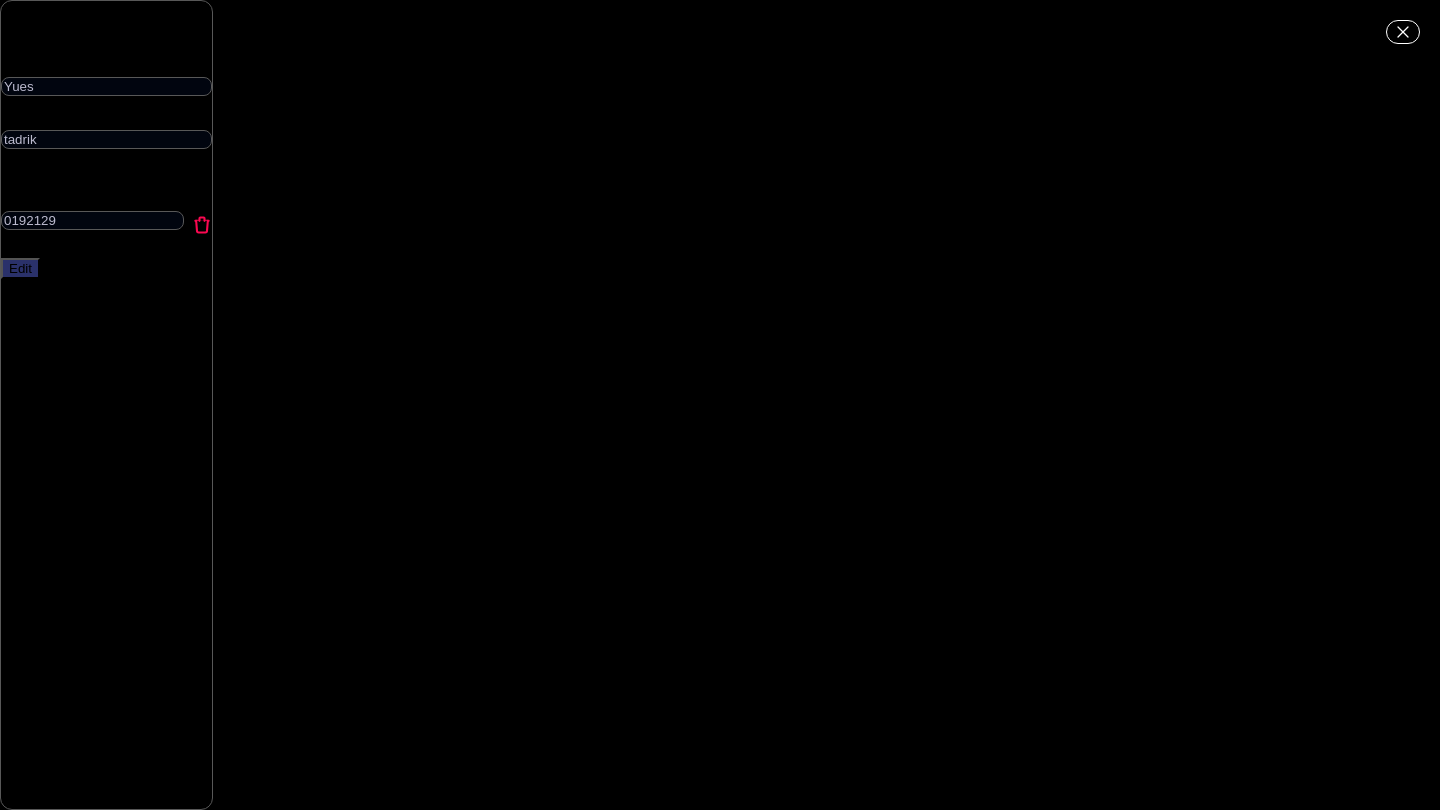
Test: Edit contact and its functionality › empty first name, fill the remain field, should not be submitted
Clear the field labelled "First Name" at (106, 86), box [1,77,212,96]
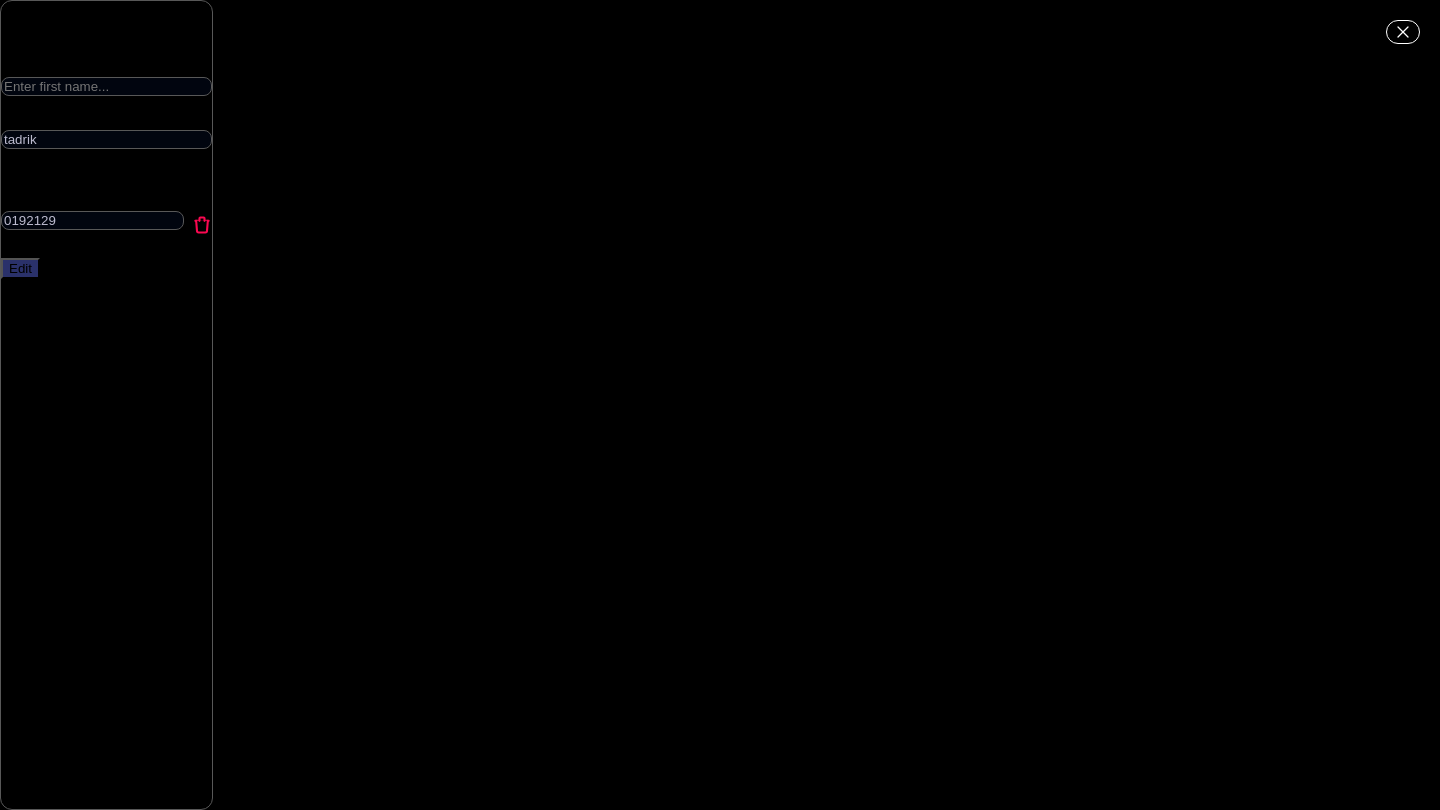
Replace the text in the field labelled "Last Name" with "Tadrik" at (106, 140), box [1,130,212,149]
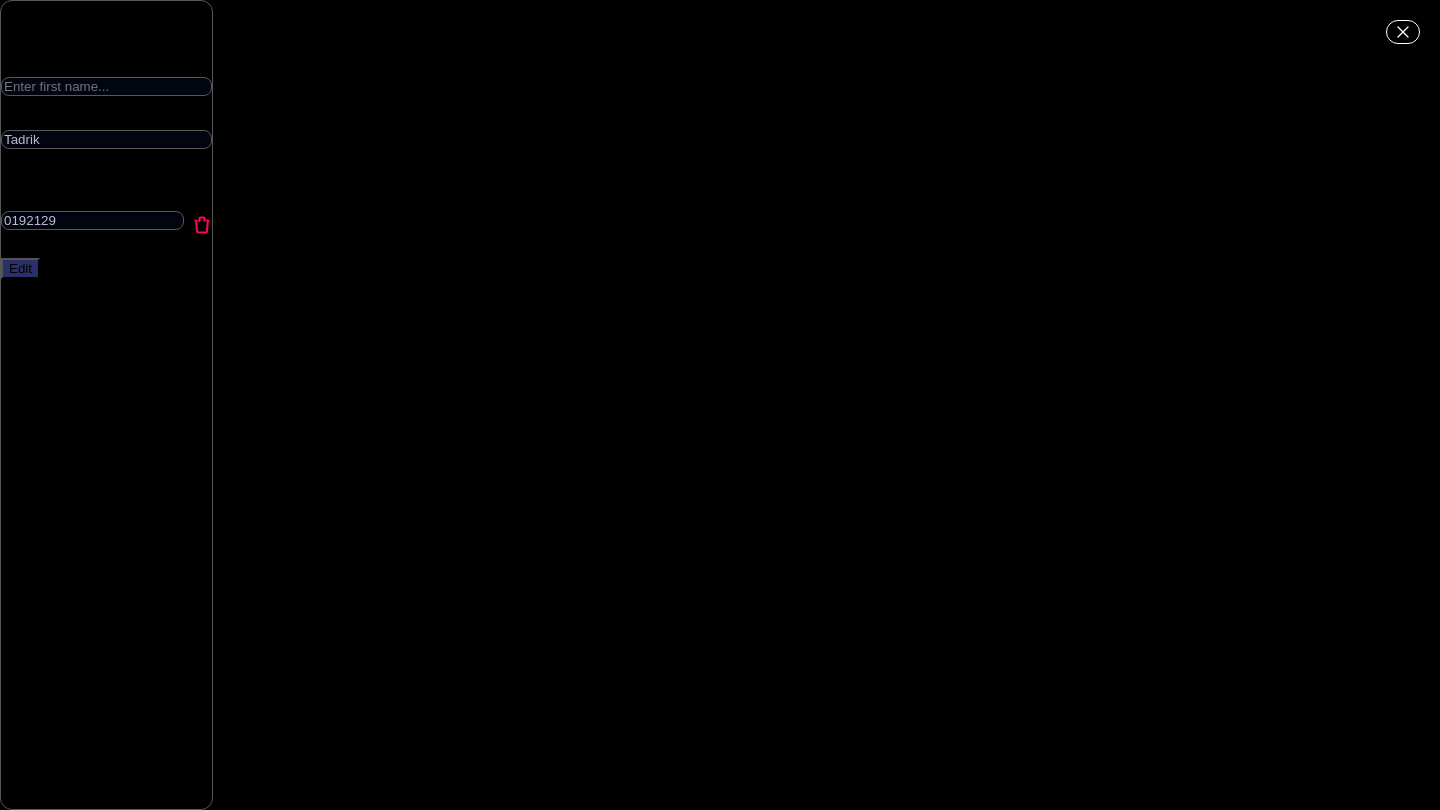
Click the button "Edit" at (20, 268), box [1,258,40,279]
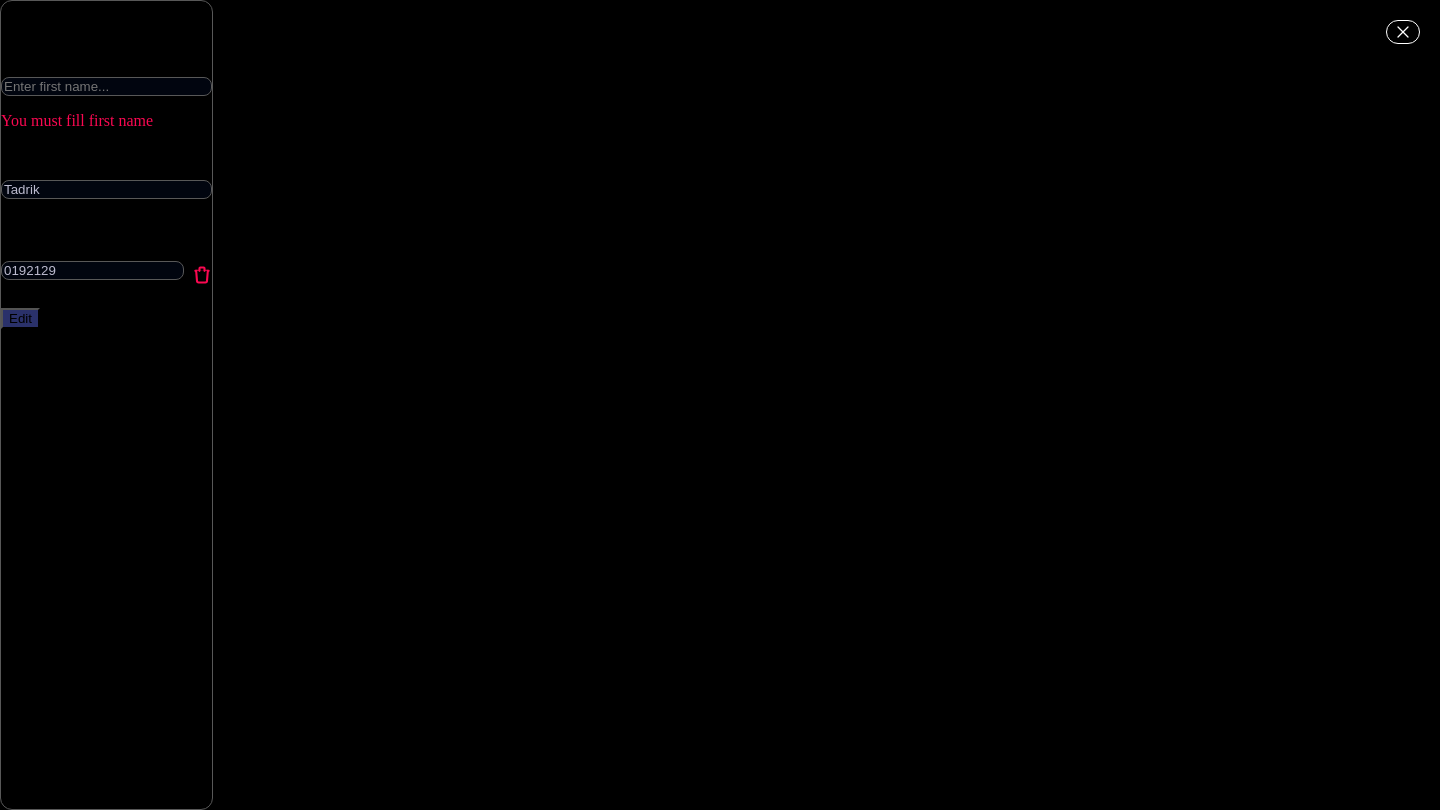
Expected: the text "You must fill first name" is shown, [1,112,153,129]
